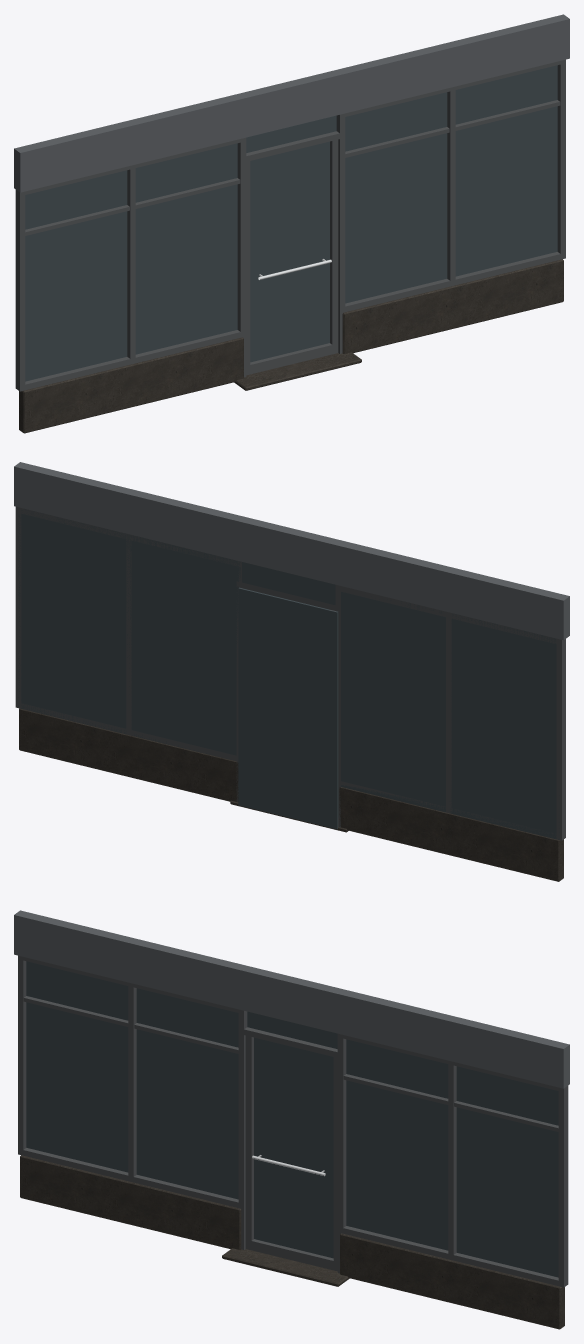
File: shopfront-wide.glb
The picture shows the model from 3 angles, top to bottom: view 1: azimuth 30°, elevation 25°; view 2: azimuth 150°, elevation 25°; view 3: azimuth 330°, elevation 25°; orthographic projection.
Visible parts, largest first — view 1: shopfront-wide; view 2: shopfront-wide; view 3: shopfront-wide.
Part boxes in pixels (x1,y1,x2,y2): shopfront-wide: [14, 14, 569, 433]; shopfront-wide: [14, 462, 569, 881]; shopfront-wide: [14, 910, 569, 1329].
Size of the model in its own units: 6.1 by 3.02 by 0.3098.
5 materials, 1 textured.
